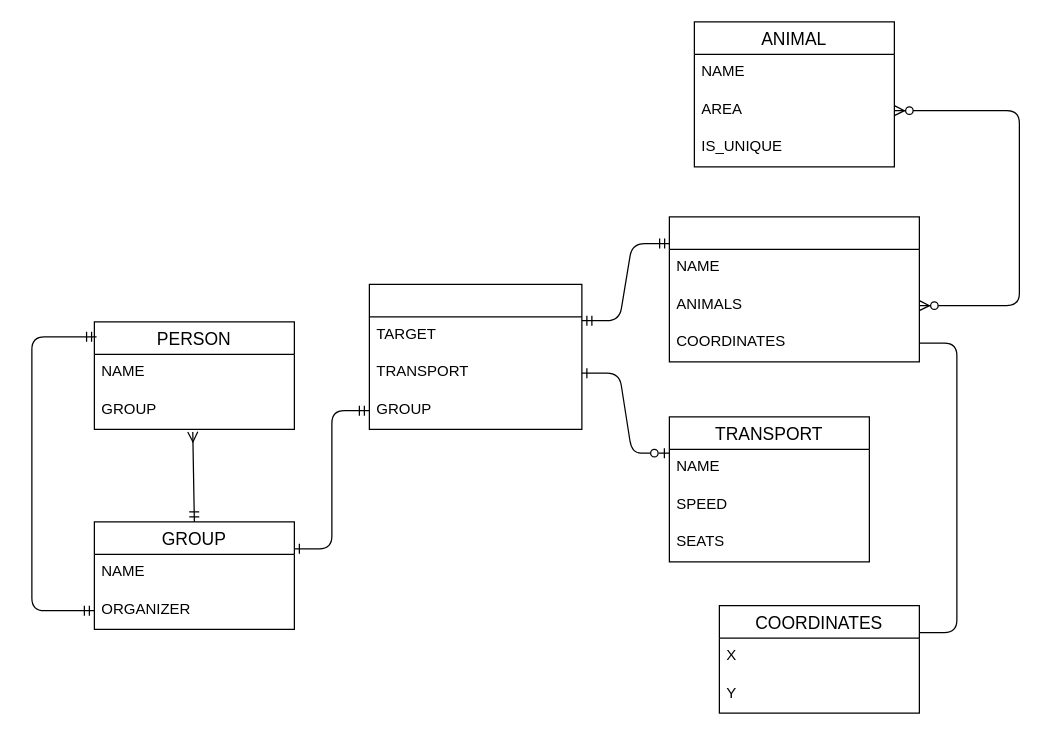
Image size: 1053x739. Some labels were removed from this diagram. Each missing label, with the box of its shape:
PLACE: (668, 216, 919, 362)
TRIP: (368, 283, 582, 429)
